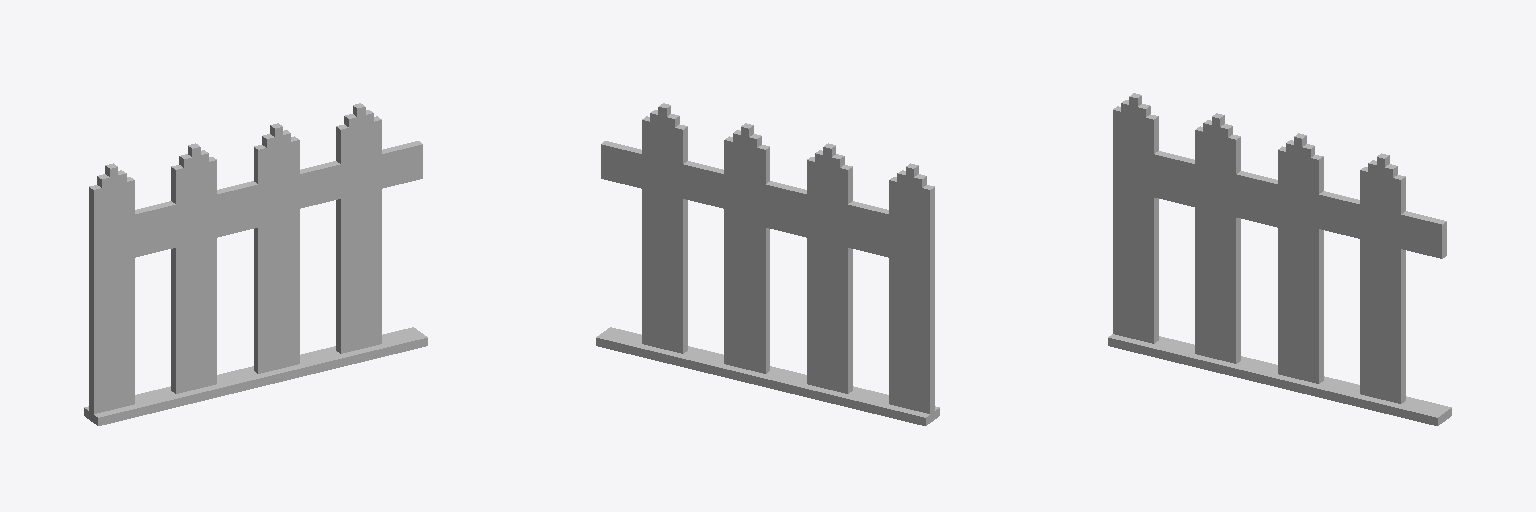
File: fence.obj
3 views of the same model, side by side, from view 1: azimuth 30°, elevation 25°; view 2: azimuth 150°, elevation 25°; view 3: azimuth 330°, elevation 25° (orthographic).
Parts seen in each view (by area): view 1: object 1; view 2: object 1; view 3: object 1.
Boxes of the visible parts, <box> form: object 1: <box>84,103,427,425</box>; object 1: <box>596,103,939,425</box>; object 1: <box>1108,93,1451,425</box>.
Bounding box in the file's own units: 4 × 2.9 × 0.3.